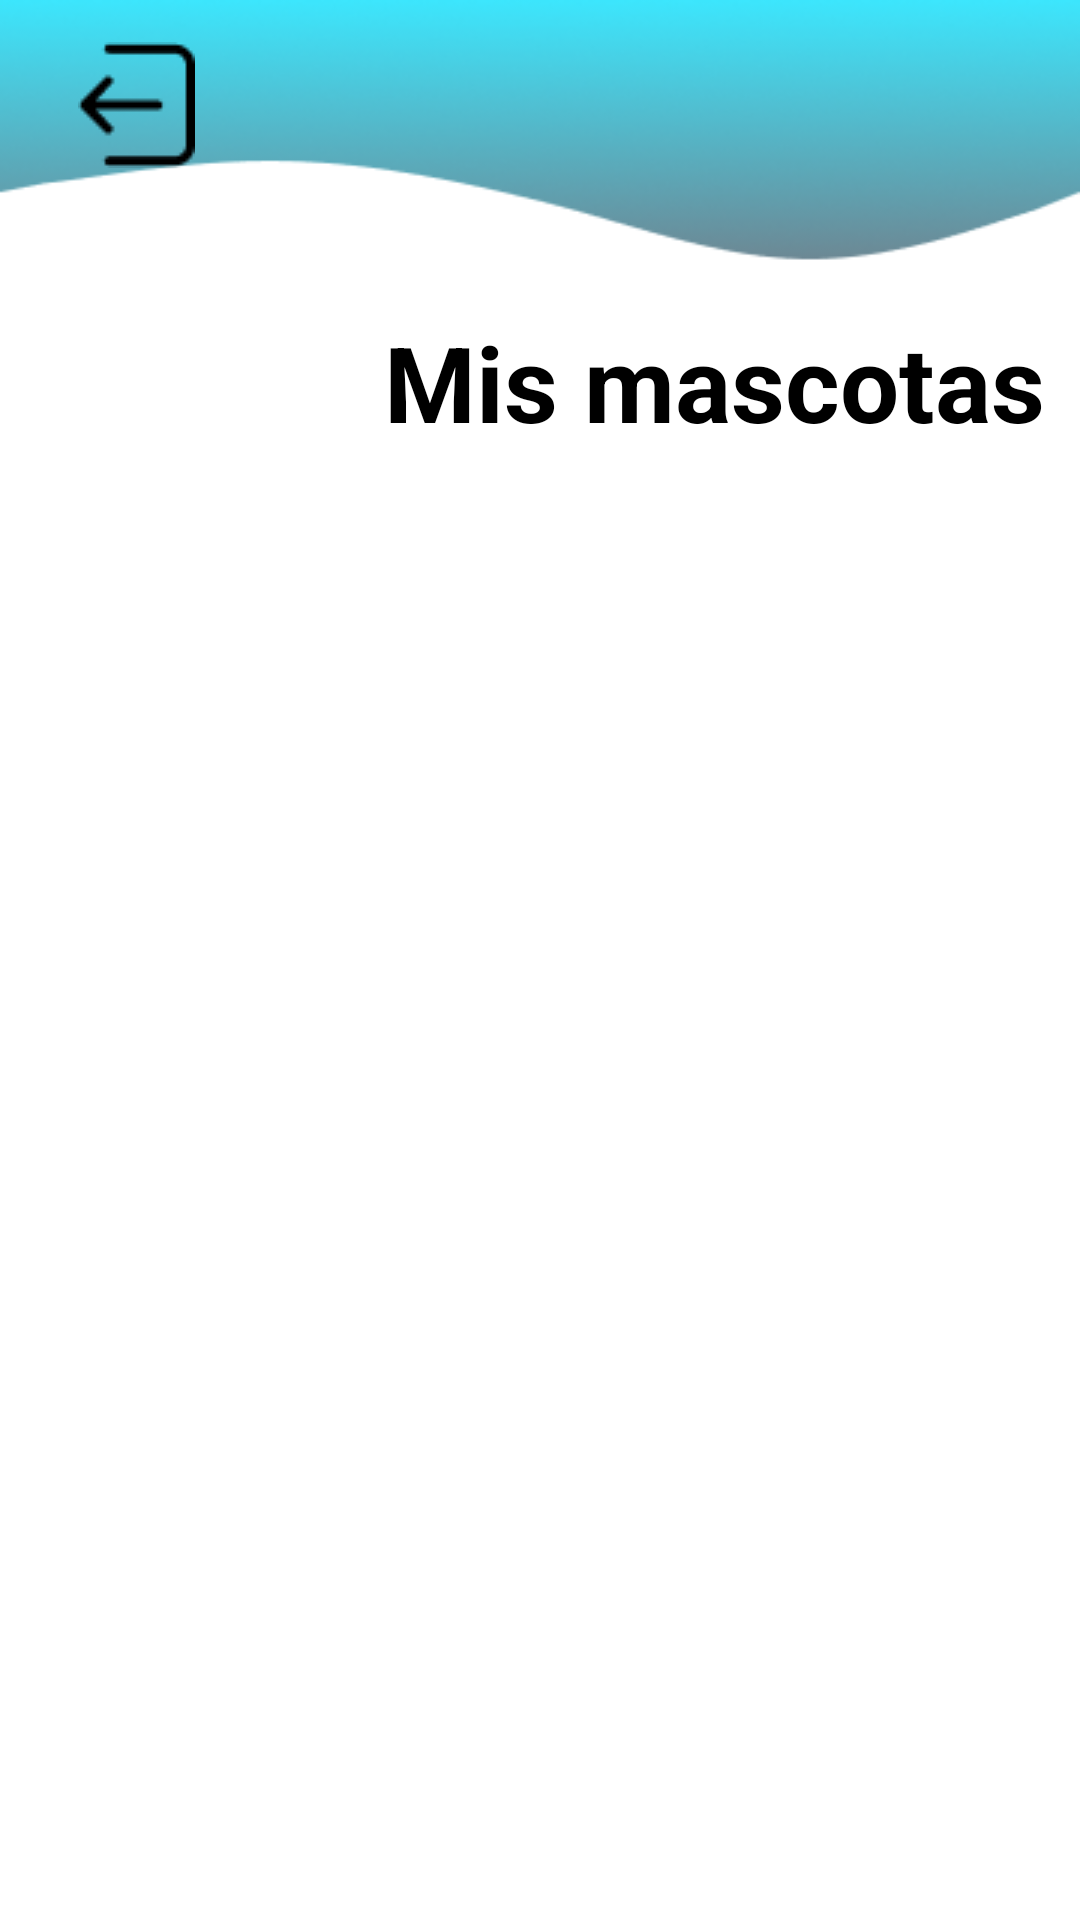

Named icons in this screenshot (1080px×1920px) and their centers, (x,y):
btnvolver: (136,105)
